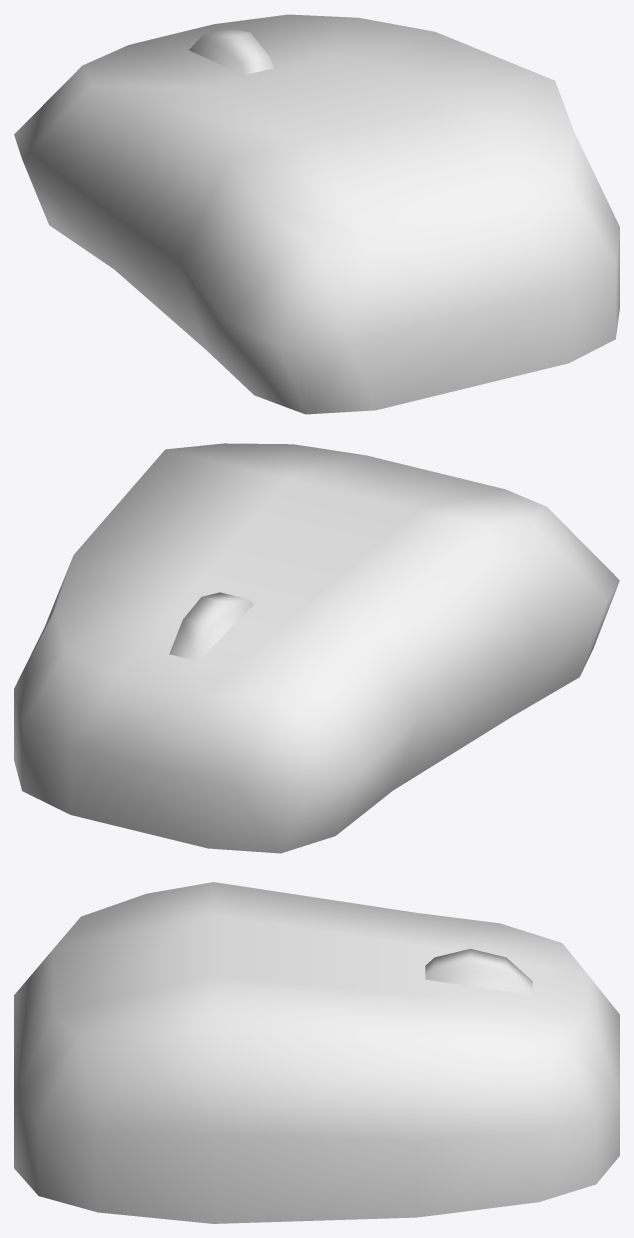
File: mouse_a.fbx
3 renders of one model, top to bottom at view 1: azimuth 30°, elevation 25°; view 2: azimuth 150°, elevation 25°; view 3: azimuth 270°, elevation 25°, orthographic. The views are drawn at different scales.
Parts seen in each view (by area): view 1: mouse_a; view 2: mouse_a; view 3: mouse_a.
Part boxes in pixels (bbox=[...]): mouse_a: bbox=[14, 14, 619, 414]; mouse_a: bbox=[14, 443, 619, 853]; mouse_a: bbox=[14, 882, 619, 1223].
Size of the model in its own units: 0.1193 by 0.0506 by 0.1574.
